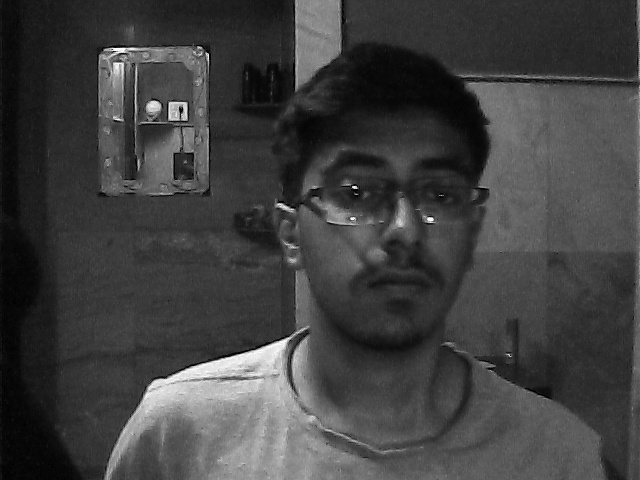nomask: (292, 100, 480, 353)
